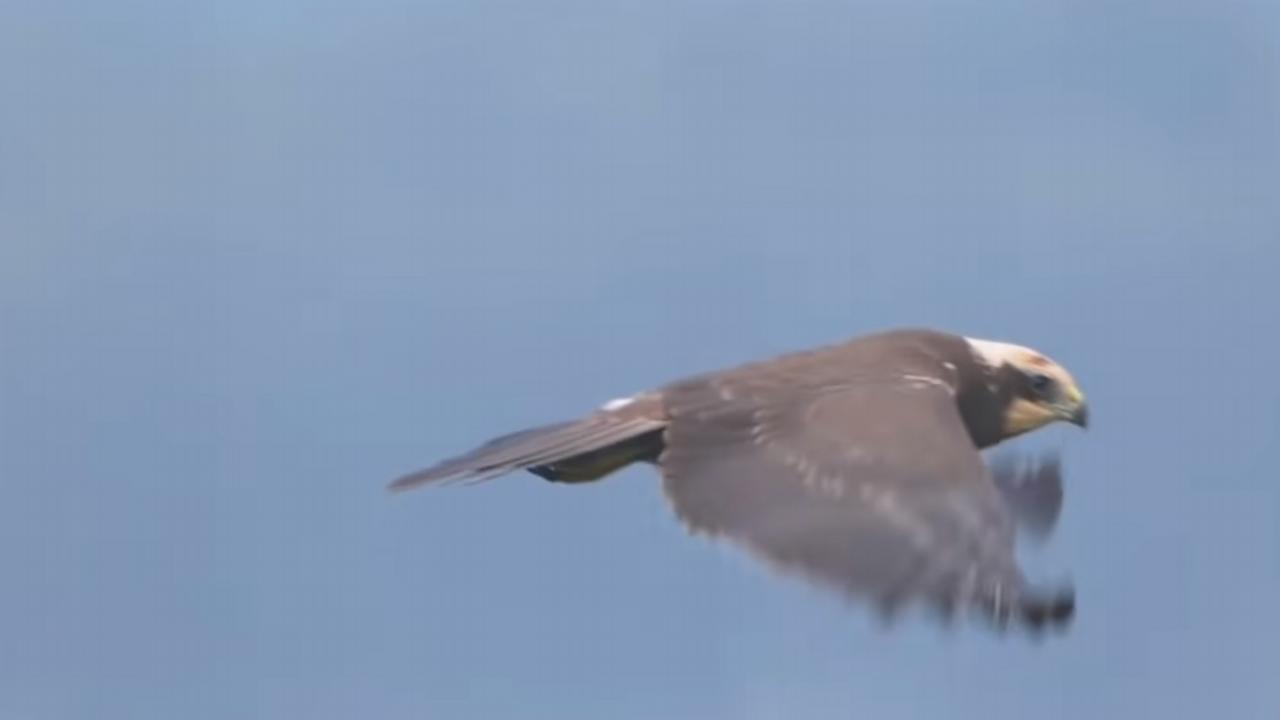Bird: (375, 321, 1105, 650)
